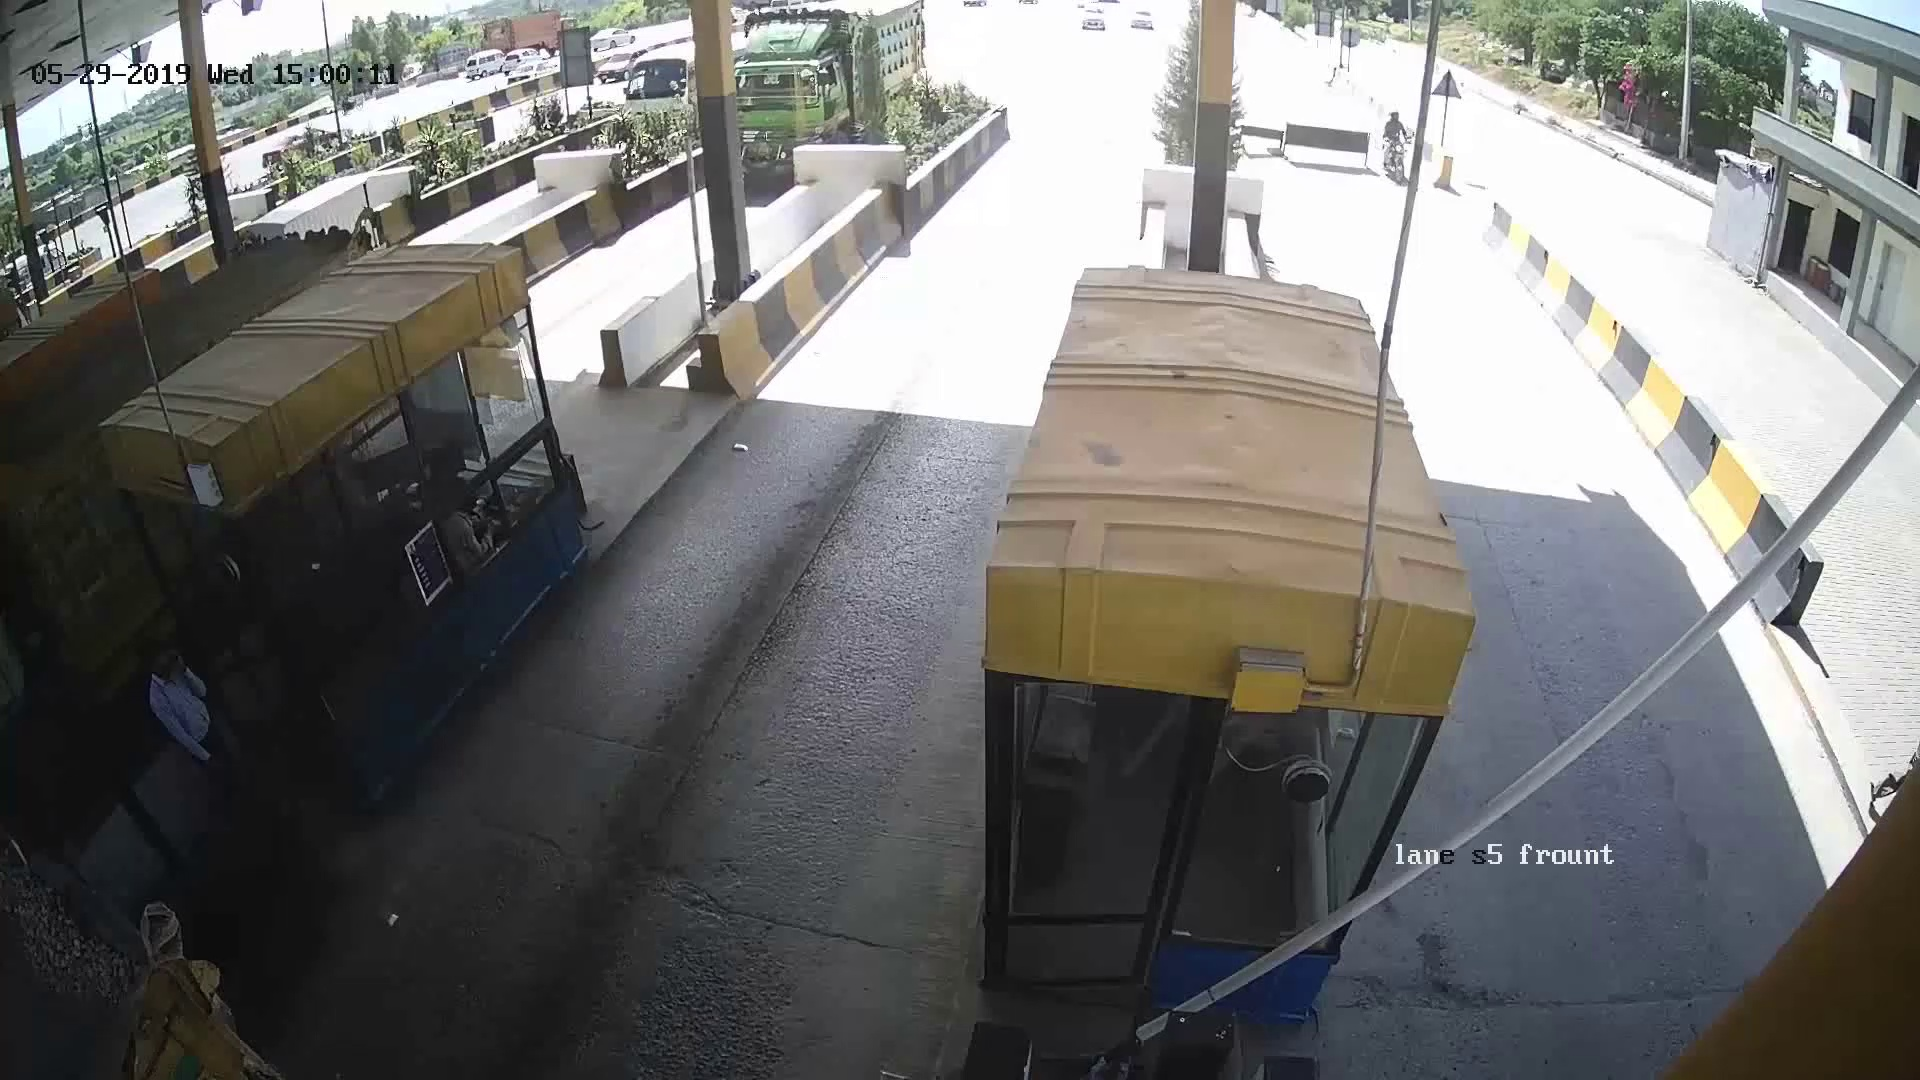truck: (738, 22, 884, 142)
